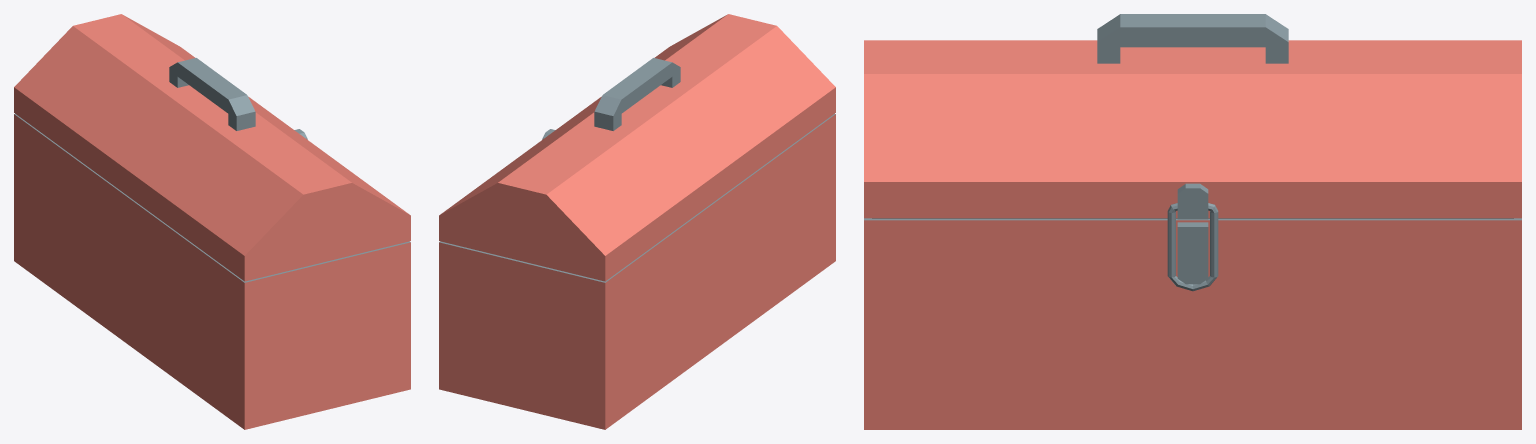
The model's file is toolbox.fbx.
3 views of the same model, side by side, from view 1: azimuth 30°, elevation 25°; view 2: azimuth 150°, elevation 25°; view 3: azimuth 270°, elevation 25° (orthographic). The views are drawn at different scales.
Visible parts, largest first — view 1: Tool_box_Cube.026; view 2: Tool_box_Cube.026; view 3: Tool_box_Cube.026.
Part boxes in pixels (bbox=[...]): Tool_box_Cube.026: bbox=[14, 14, 410, 429]; Tool_box_Cube.026: bbox=[439, 14, 835, 429]; Tool_box_Cube.026: bbox=[864, 14, 1521, 429].
Bounding box in the file's own units: 429 × 586 × 993.
